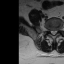CCS_normal: (52, 27, 54, 38)
LFS_stenosis: (57, 26, 59, 33)
LLS_normal: (54, 27, 57, 35)
RFS_severe_stenosis: (48, 26, 50, 33)
RLS_normal: (50, 27, 52, 36)
